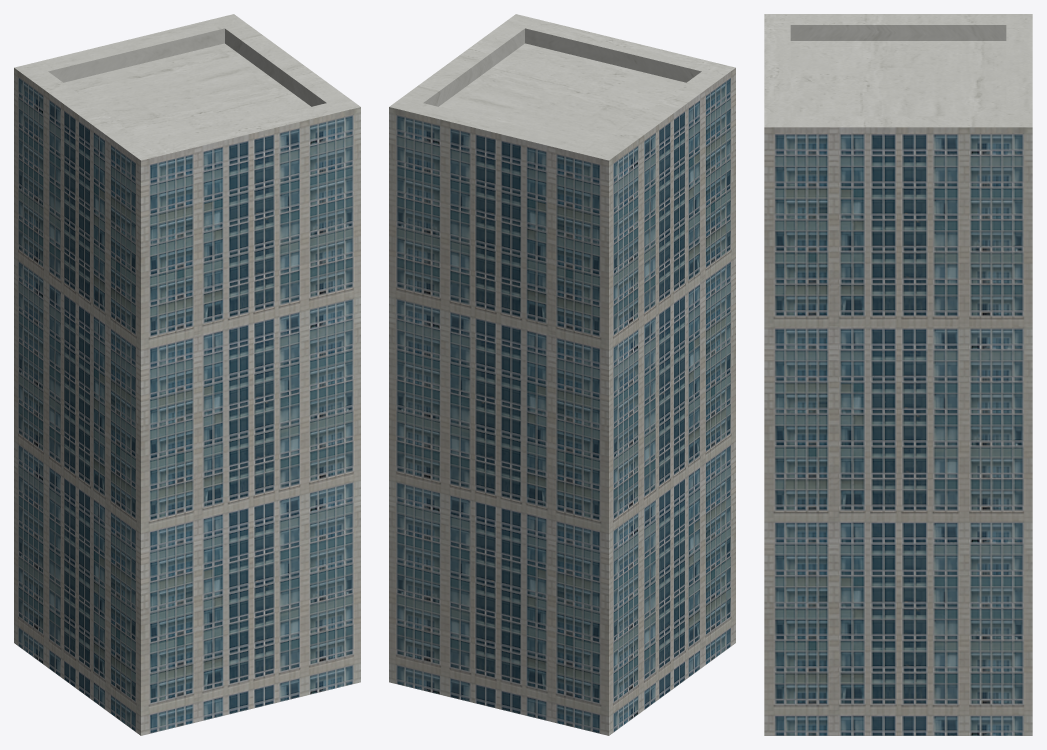
Rendered from SM_Building01.fbx.
The picture shows the model from 3 angles, left to right: view 1: azimuth 30°, elevation 25°; view 2: azimuth 150°, elevation 25°; view 3: azimuth 270°, elevation 25°; orthographic projection. The views are drawn at different scales.
Parts seen in each view (by area): view 1: pCube1; view 2: pCube1; view 3: pCube1.
Part boxes in pixels (x1=…): pCube1: x1=14, y1=14, x2=360, y2=735; pCube1: x1=389, y1=14, x2=735, y2=735; pCube1: x1=764, y1=14, x2=1032, y2=735.
Bounding box in the file's own units: 240 × 600 × 240.
